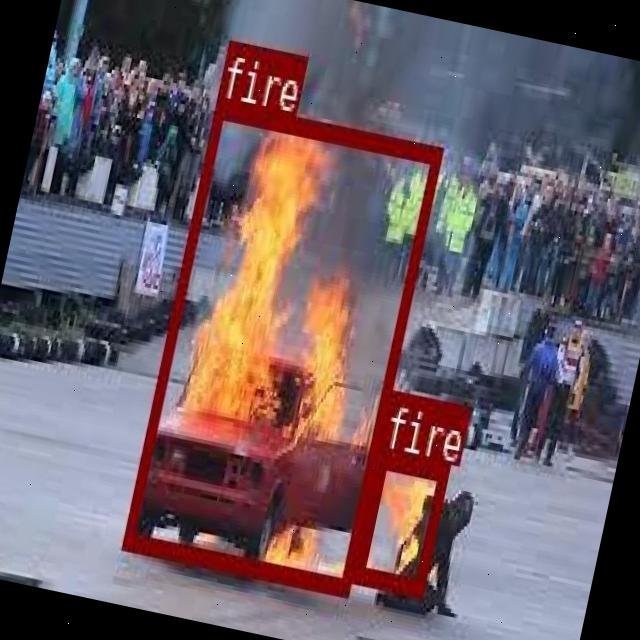fire: (120, 99, 442, 590), (352, 446, 448, 595)
